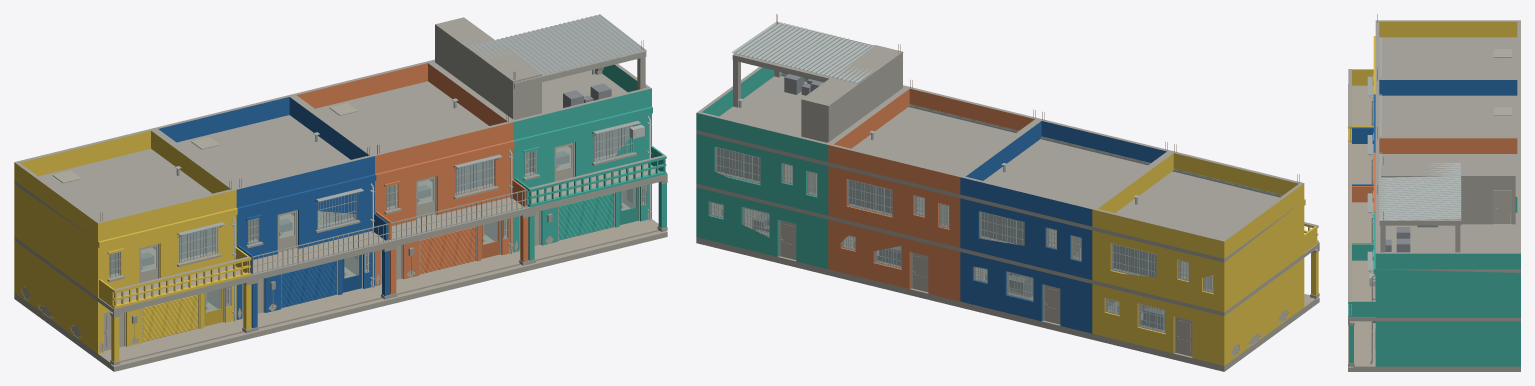
The model's file is port_sarcelle_four_shophouses.glb.
3 renders of one model, left to right at view 1: azimuth 30°, elevation 25°; view 2: azimuth 150°, elevation 25°; view 3: azimuth 270°, elevation 25°, orthographic. The views are drawn at different scales.
Visible parts, largest first — view 1: concrete_cast, new_render_yellow, floor_tiles, new_render_blue, new_render_orange, new_render_turquoise, steel_painted_worn, galvanized_steel, glass, aluminium_weathered, DoorRoll_09, DoorRoll_17 (+15 smaller); view 2: concrete_cast, new_render_yellow, new_render_orange, new_render_blue, new_render_turquoise, glass, steel_painted_worn, galvanized_steel, aluminium_weathered, plaster_cream_warm, Ph_bedroom3_curtains_01, Ph_bedroom_curtains_01 (+6 smaller); view 3: concrete_cast, new_render_turquoise, galvanized_steel, floor_tiles, new_render_yellow, new_render_blue, new_render_orange, DoorLeaf_41_L_in, Ph_living5_armchair_02, steel_painted_worn, Ph_living5_armchair_01, DoorSlide_43_R (+1 smaller).
Part boxes in pixels (x1,y1,x2,y2): concrete_cast: (14,17,667,371); new_render_yellow: (14,130,251,361); floor_tiles: (98,146,667,366); new_render_blue: (158,97,389,328); new_render_orange: (297,63,528,294); new_render_turquoise: (513,64,666,260); steel_painted_worn: (106,124,646,346); galvanized_steel: (174,14,651,321); glass: (110,126,643,302); aluminium_weathered: (109,124,645,306); DoorRoll_09: (281,261,336,307); DoorRoll_17: (420,227,475,273); concrete_cast: (696,22,1319,371); new_render_yellow: (1092,153,1318,365); new_render_orange: (828,89,1034,301); new_render_blue: (960,121,1166,333); new_render_turquoise: (696,67,828,268); glass: (712,148,1212,330); steel_painted_worn: (709,147,1213,352); galvanized_steel: (732,21,1282,204); aluminium_weathered: (710,147,1212,332); plaster_cream_warm: (712,164,1212,318); Ph_bedroom3_curtains_01: (850,180,891,213); Ph_bedroom_curtains_01: (1114,245,1155,276); concrete_cast: (1348,20,1520,371); new_render_turquoise: (1348,197,1520,366); galvanized_steel: (1367,36,1460,364); floor_tiles: (1348,85,1375,367); new_render_yellow: (1348,21,1517,142); new_render_blue: (1352,80,1517,185); new_render_orange: (1352,138,1517,244); DoorLeaf_41_L_in: (1493,191,1510,223); Ph_living5_armchair_02: (1396,238,1410,252); steel_painted_worn: (1349,81,1375,349); Ph_living5_armchair_01: (1396,227,1410,238); DoorSlide_43_R: (1493,49,1511,57).
Size of the model in its own units: 32 by 10.1 by 10.
